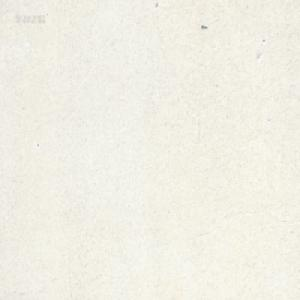Nail: (200, 23, 207, 29)
